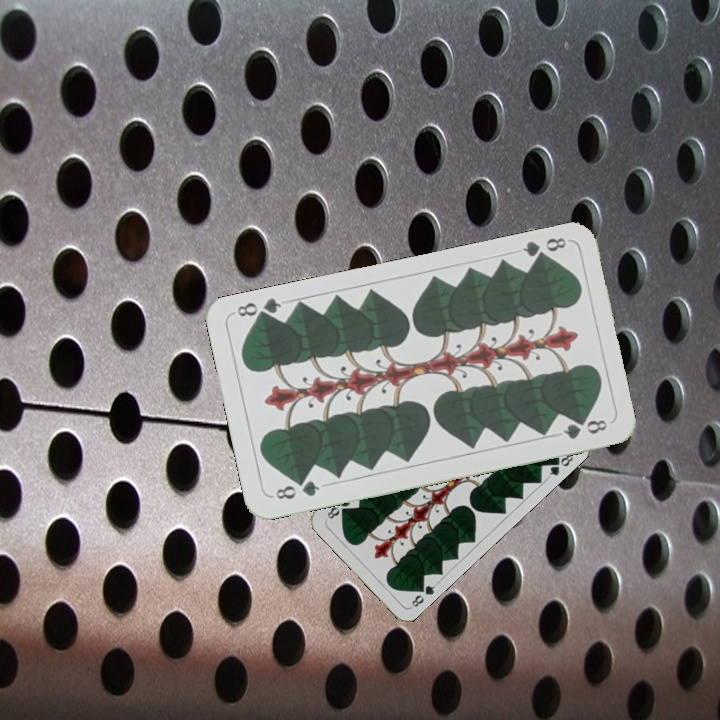G8: (518, 233, 569, 265), (268, 476, 322, 502), (407, 579, 440, 610)
